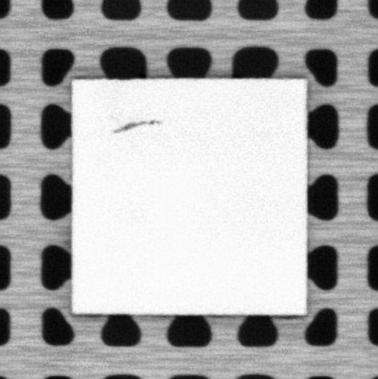DIE_INK: (115, 118, 162, 133)
